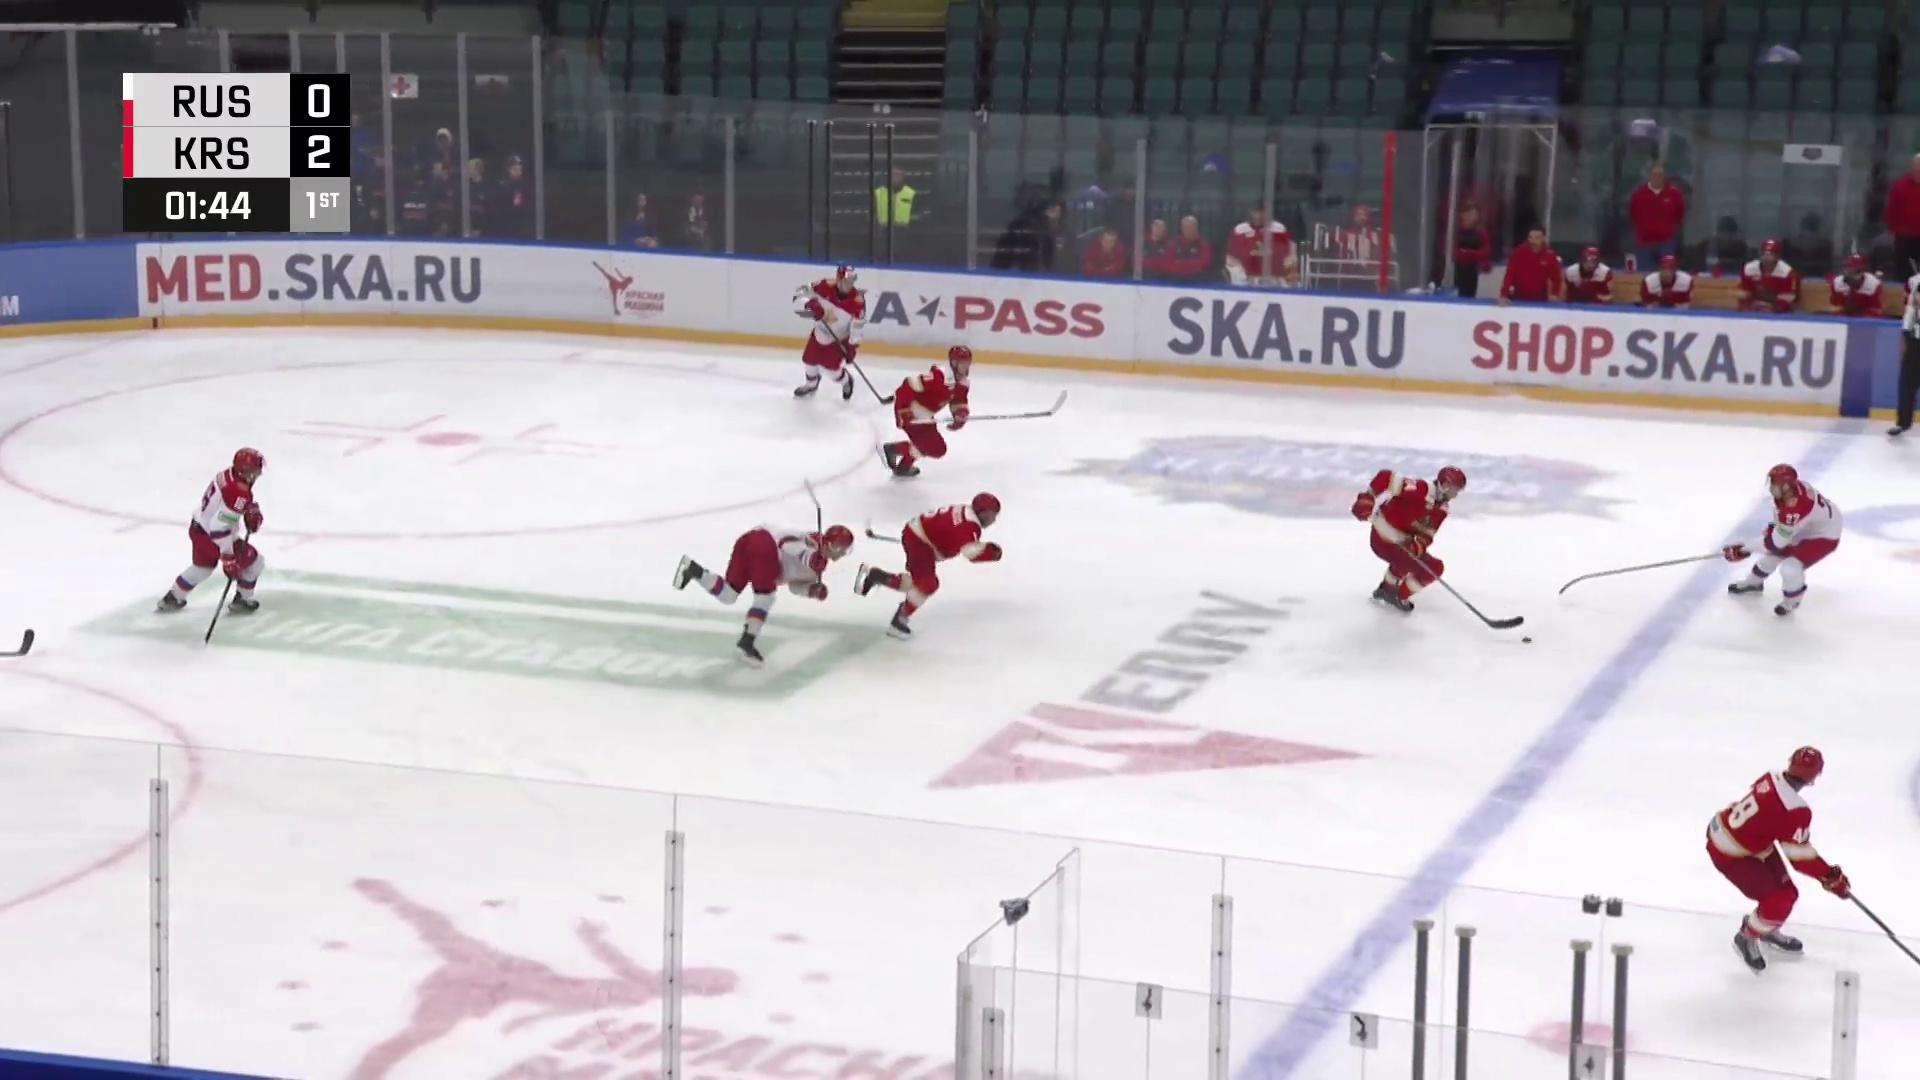ball: (1519, 634, 1534, 646)
